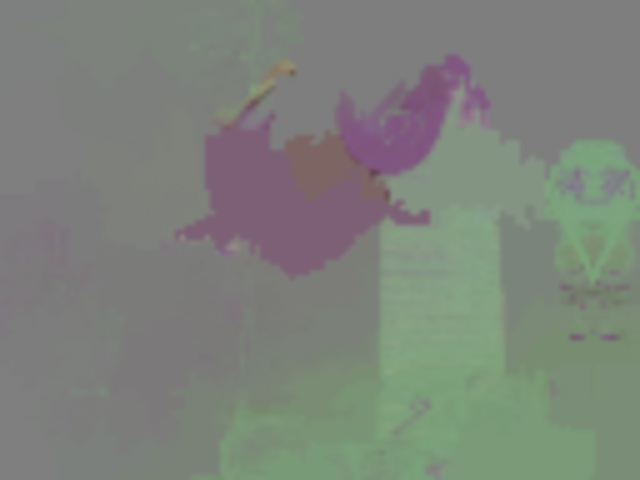two: (380, 110, 425, 147)
